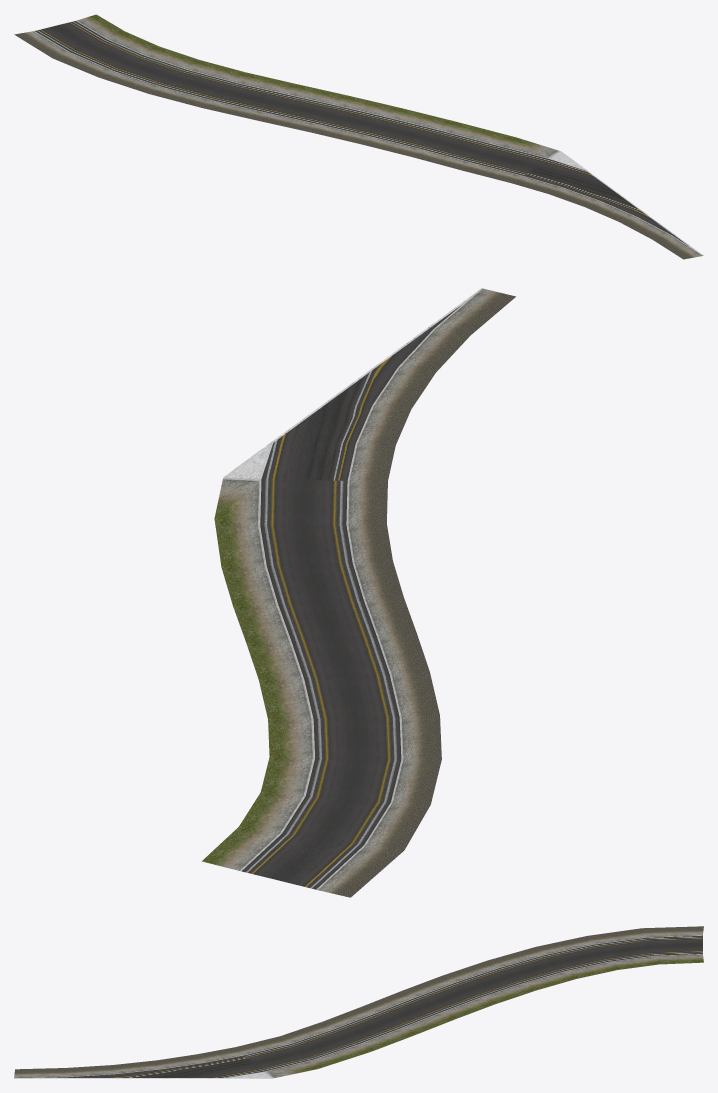
File: vegasnroad624.obj
3 renders of one model, top to bottom at view 1: azimuth 30°, elevation 25°; view 2: azimuth 150°, elevation 25°; view 3: azimuth 270°, elevation 25°, orthographic. The views are drawn at different scales.
Parts seen in each view (by area): view 1: VegasNroad624; view 2: VegasNroad624; view 3: VegasNroad624.
Part boxes in pixels (x1,y1,x2,y2): VegasNroad624: (14, 14, 703, 259); VegasNroad624: (202, 288, 515, 897); VegasNroad624: (14, 926, 703, 1078).
Bounding box in the file's own units: 74.99 × 4.17 × 160.
Materials: 5 (5 with a texture image).
